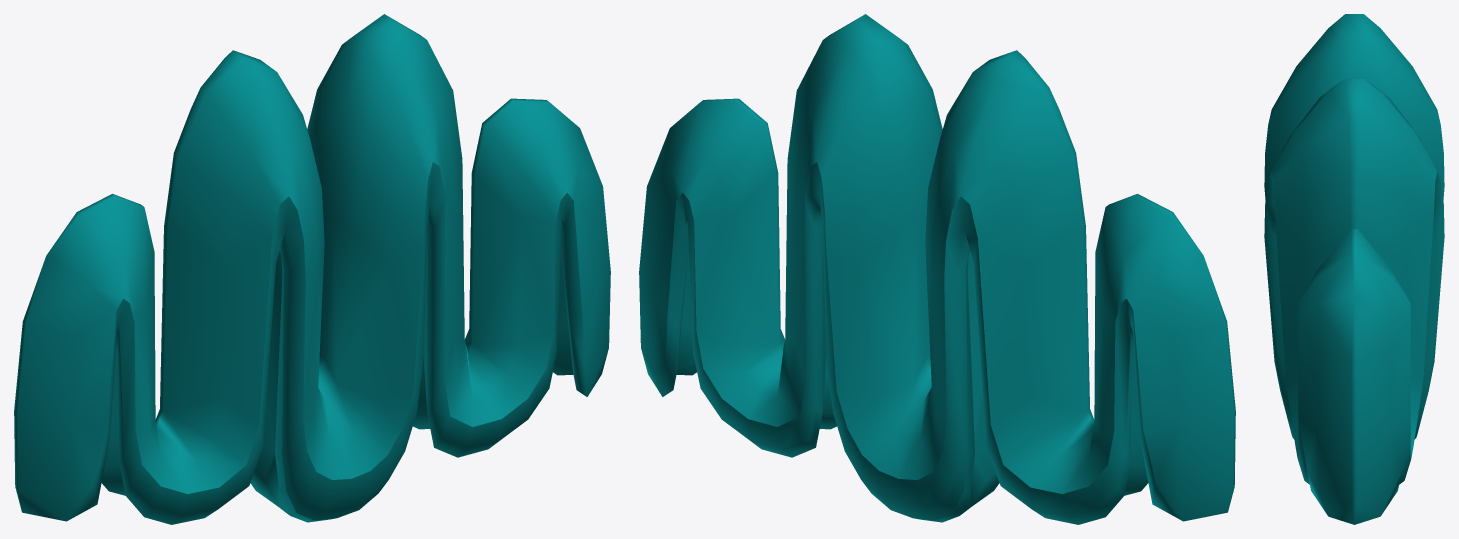
The model's file is bush-1.glb.
3 renders of one model, left to right at view 1: azimuth 30°, elevation 25°; view 2: azimuth 150°, elevation 25°; view 3: azimuth 270°, elevation 25°, orthographic. The views are drawn at different scales.
Visible parts, largest first — view 1: Bush_1; view 2: Bush_1; view 3: Bush_1.
Part boxes in pixels (left/top/right/bottom): Bush_1: left=14, top=14, right=610, bottom=524; Bush_1: left=639, top=14, right=1235, bottom=524; Bush_1: left=1264, top=14, right=1444, bottom=524.
Bounding box in the file's own units: 3.24 × 2.46 × 0.9791.
